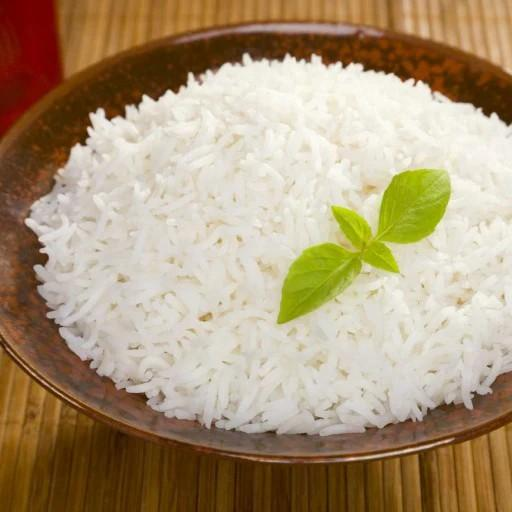WhiteRice: (22, 53, 512, 434)
